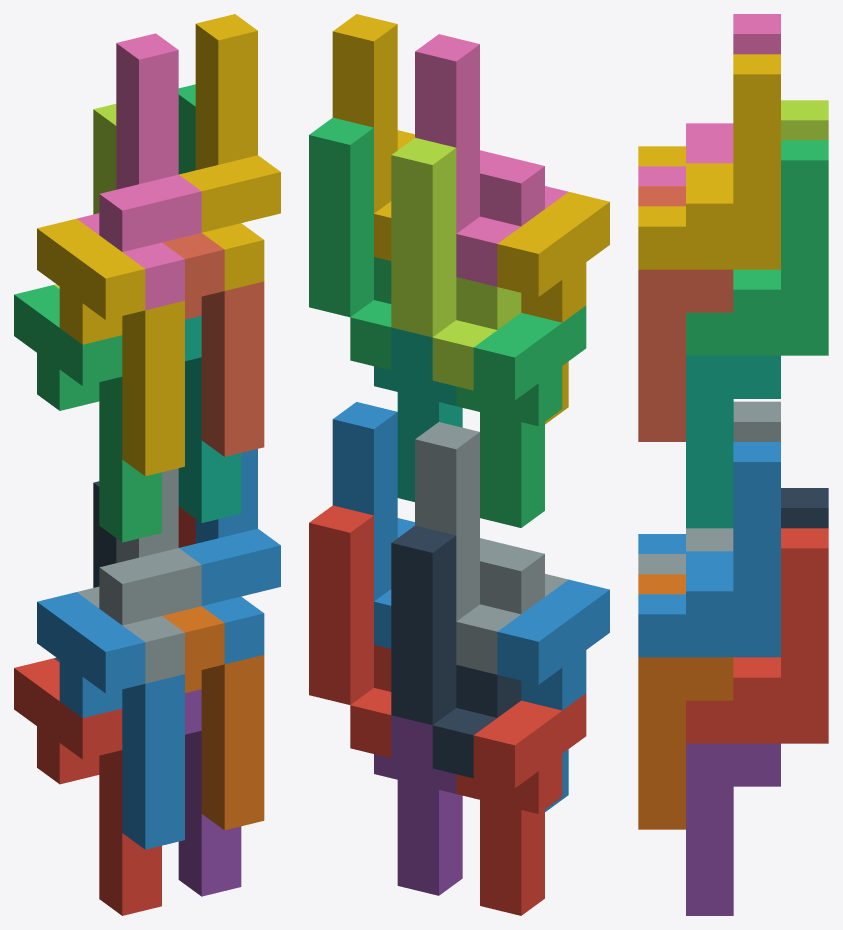
Rendered from tiling.obj.
3 views of the same model, side by side, from view 1: azimuth 30°, elevation 25°; view 2: azimuth 150°, elevation 25°; view 3: azimuth 270°, elevation 25° (orthographic). The views are drawn at different scales.
Parts seen in each view (by area): view 1: copy_1_domain_4, copy_1_domain_2, copy_2_domain_4, copy_2_domain_8, copy_1_domain_1, copy_1_domain_3, copy_1_domain_6, copy_1_domain_8, copy_2_domain_2, copy_2_domain_6, copy_1_domain_7, copy_1_domain_5 (+4 smaller); view 2: copy_2_domain_1, copy_2_domain_3, copy_1_domain_1, copy_1_domain_3, copy_2_domain_4, copy_2_domain_2, copy_2_domain_5, copy_2_domain_7, copy_1_domain_2, copy_1_domain_4, copy_1_domain_5, copy_2_domain_8 (+2 smaller); view 3: copy_2_domain_6, copy_2_domain_8, copy_2_domain_5, copy_2_domain_7, copy_1_domain_6, copy_1_domain_8, copy_1_domain_7, copy_1_domain_5, copy_2_domain_4, copy_2_domain_2, copy_2_domain_1, copy_2_domain_3 (+2 smaller).
Part boxes in pixels (left/top/right/bottom): copy_1_domain_4: left=37, top=218, right=184, bottom=476; copy_1_domain_2: left=37, top=592, right=184, bottom=849; copy_2_domain_4: left=77, top=33, right=201, bottom=310; copy_2_domain_8: left=179, top=14, right=280, bottom=290; copy_1_domain_1: left=14, top=658, right=161, bottom=915; copy_1_domain_3: left=14, top=285, right=161, bottom=542; copy_1_domain_6: left=162, top=606, right=264, bottom=830; copy_1_domain_8: left=162, top=233, right=264, bottom=456; copy_2_domain_2: left=77, top=468, right=201, bottom=683; copy_2_domain_6: left=179, top=449, right=280, bottom=664; copy_1_domain_7: left=178, top=316, right=241, bottom=522; copy_1_domain_5: left=178, top=689, right=241, bottom=896; copy_2_domain_1: left=391, top=525, right=521, bottom=778; copy_2_domain_3: left=391, top=137, right=521, bottom=390; copy_1_domain_1: left=456, top=693, right=586, bottom=915; copy_1_domain_3: left=456, top=305, right=586, bottom=527; copy_2_domain_4: left=415, top=34, right=568, bottom=286; copy_2_domain_2: left=415, top=422, right=568, bottom=674; copy_2_domain_5: left=309, top=505, right=391, bottom=757; copy_2_domain_7: left=309, top=117, right=391, bottom=370; copy_1_domain_2: left=497, top=579, right=609, bottom=811; copy_1_domain_4: left=497, top=192, right=609, bottom=424; copy_1_domain_5: left=374, top=715, right=462, bottom=895; copy_2_domain_8: left=332, top=14, right=414, bottom=260; copy_2_domain_6: left=638, top=442, right=780, bottom=657; copy_2_domain_8: left=638, top=54, right=780, bottom=269; copy_2_domain_5: left=686, top=528, right=828, bottom=743; copy_2_domain_7: left=686, top=140, right=828, bottom=355; copy_1_domain_6: left=638, top=574, right=733, bottom=829; copy_1_domain_8: left=638, top=186, right=733, bottom=441; copy_1_domain_7: left=686, top=355, right=780, bottom=528; copy_1_domain_5: left=686, top=743, right=780, bottom=915; copy_2_domain_4: left=638, top=14, right=780, bottom=186; copy_2_domain_2: left=638, top=401, right=780, bottom=574; copy_2_domain_1: left=781, top=488, right=828, bottom=528; copy_2_domain_3: left=781, top=100, right=828, bottom=140.
Size of the model in its own units: 5 by 20 by 4.
